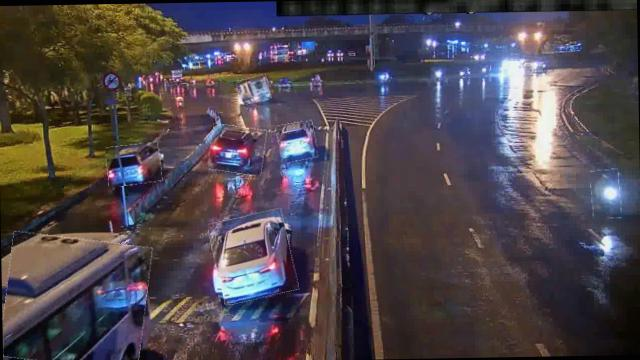Bike: (592, 170, 622, 218)
Bus: (1, 232, 150, 360)
Car: (211, 212, 296, 302), (209, 124, 266, 175), (106, 142, 162, 185), (278, 121, 318, 162)
Truck: (238, 75, 270, 103)
